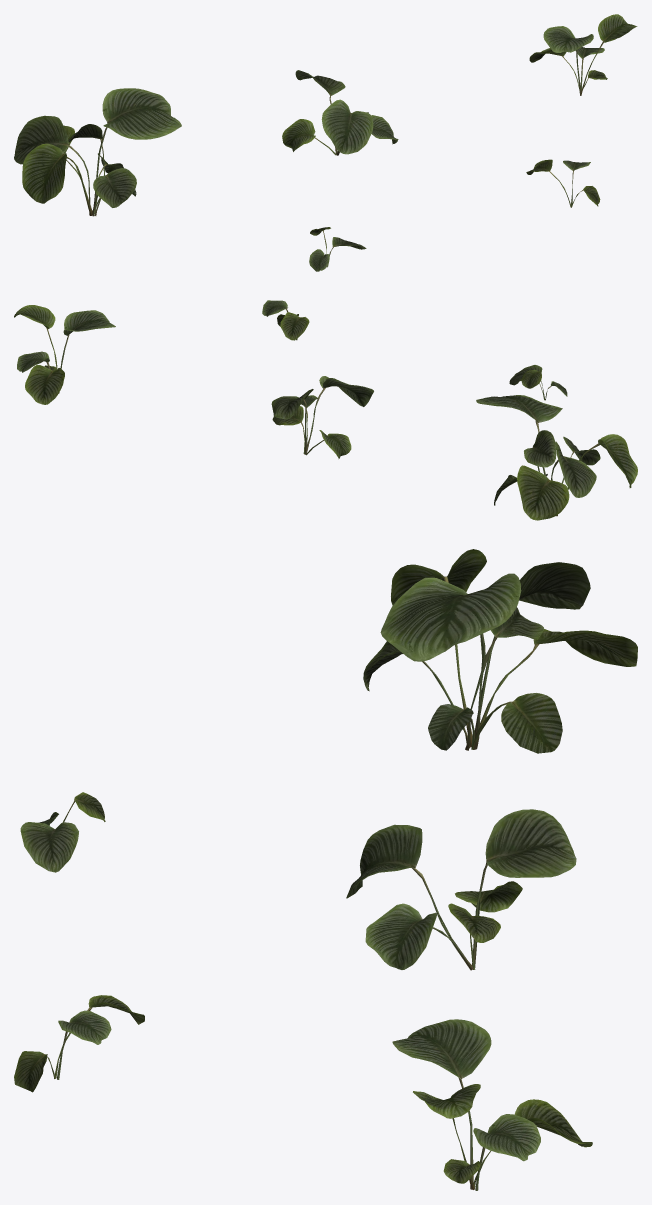
Rendered from calathea_orbifolia_01.glb.
3 views of the same model, one above another, from view 1: azimuth 30°, elevation 25°; view 2: azimuth 150°, elevation 25°; view 3: azimuth 270°, elevation 25° (orthographic). The views are drawn at different scales.
Parts seen in each view (by area): view 1: calathea_orbifolia_01_a; view 2: calathea_orbifolia_01_a; view 3: calathea_orbifolia_01_a.
Boxes of the visible parts, x1,y1,x2,y2 form: calathea_orbifolia_01_a: [14, 14, 637, 271]; calathea_orbifolia_01_a: [14, 300, 637, 520]; calathea_orbifolia_01_a: [14, 549, 637, 1190].
Bounding box in the file's own units: 2.49 × 0.4243 × 1.19.
1 material, 1 textured.
